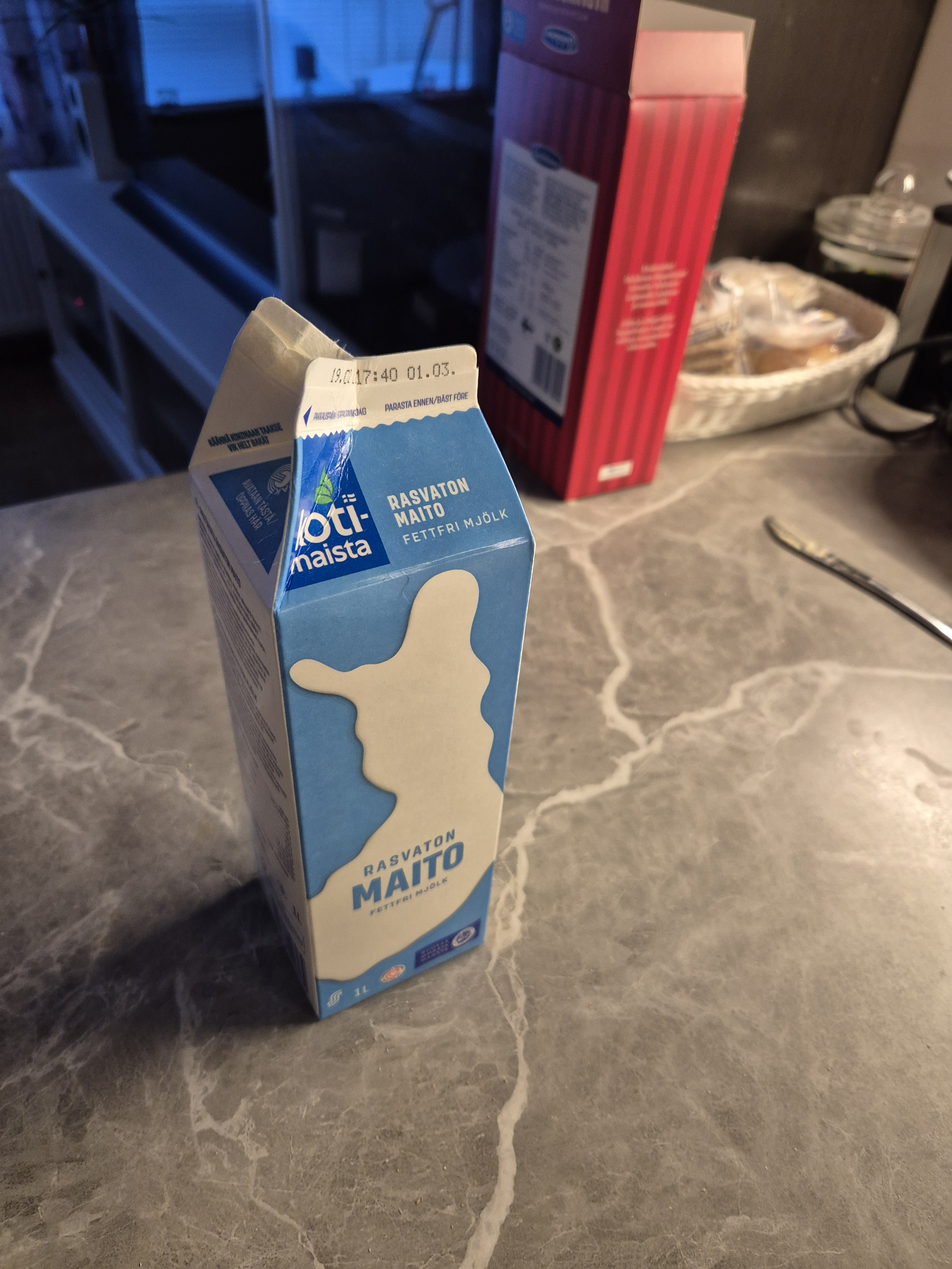Dryckeskartong: (186, 296, 537, 1020)
